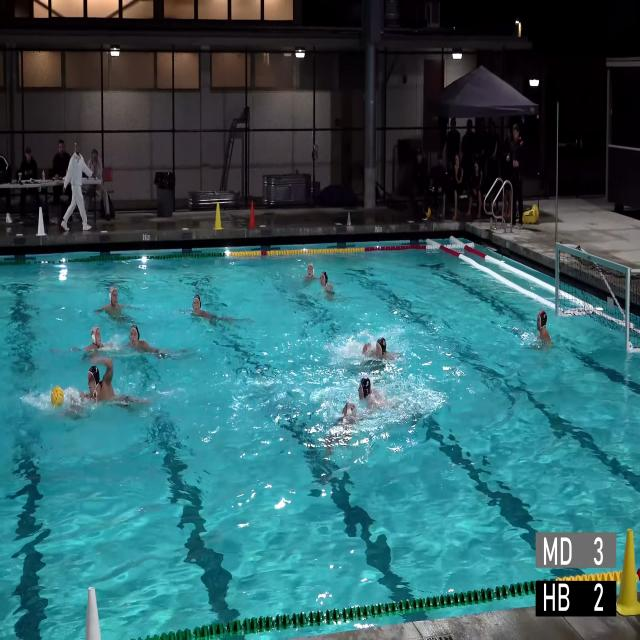ball: (50, 386, 64, 406), (425, 207, 431, 218)
